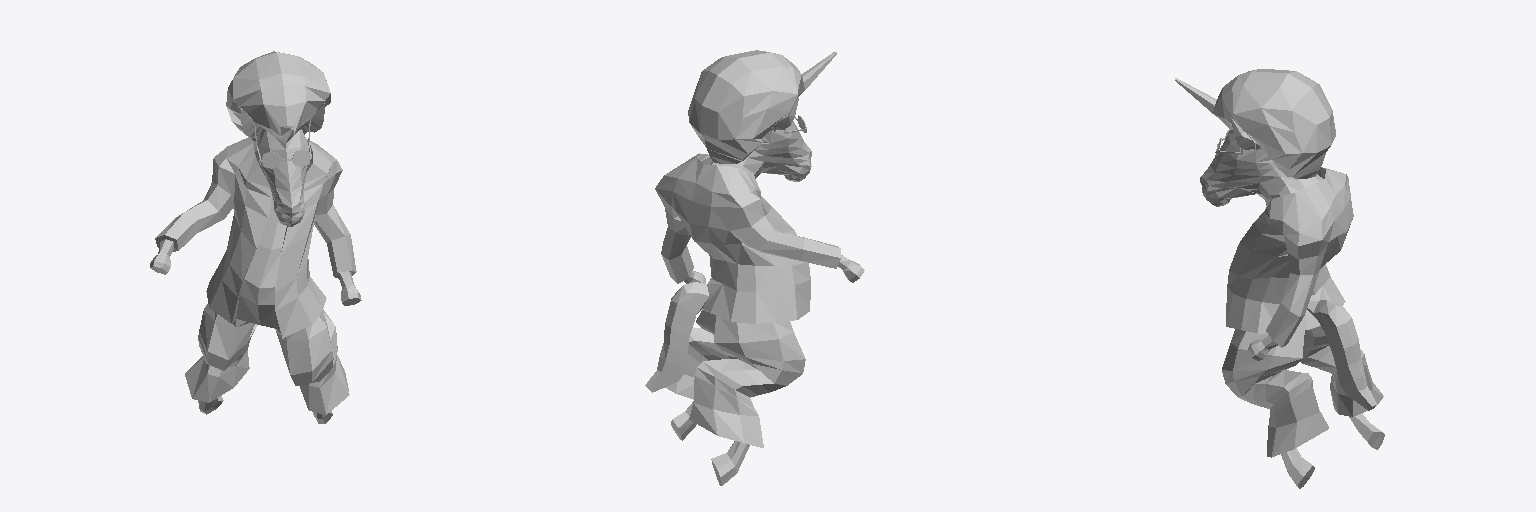
File: travornio_000133.obj
3 renders of one model, left to right at view 1: azimuth 30°, elevation 25°; view 2: azimuth 150°, elevation 25°; view 3: azimuth 270°, elevation 25°, orthographic.
Visible parts, largest first — view 1: pPlane12; view 2: pPlane12; view 3: pPlane12.
Part boxes in pixels (left/top/right/bottom): pPlane12: left=150, top=51, right=361, bottom=423; pPlane12: left=645, top=50, right=864, bottom=485; pPlane12: left=1175, top=69, right=1384, bottom=488.
Size of the model in its own units: 12.08 by 22.53 by 11.05.